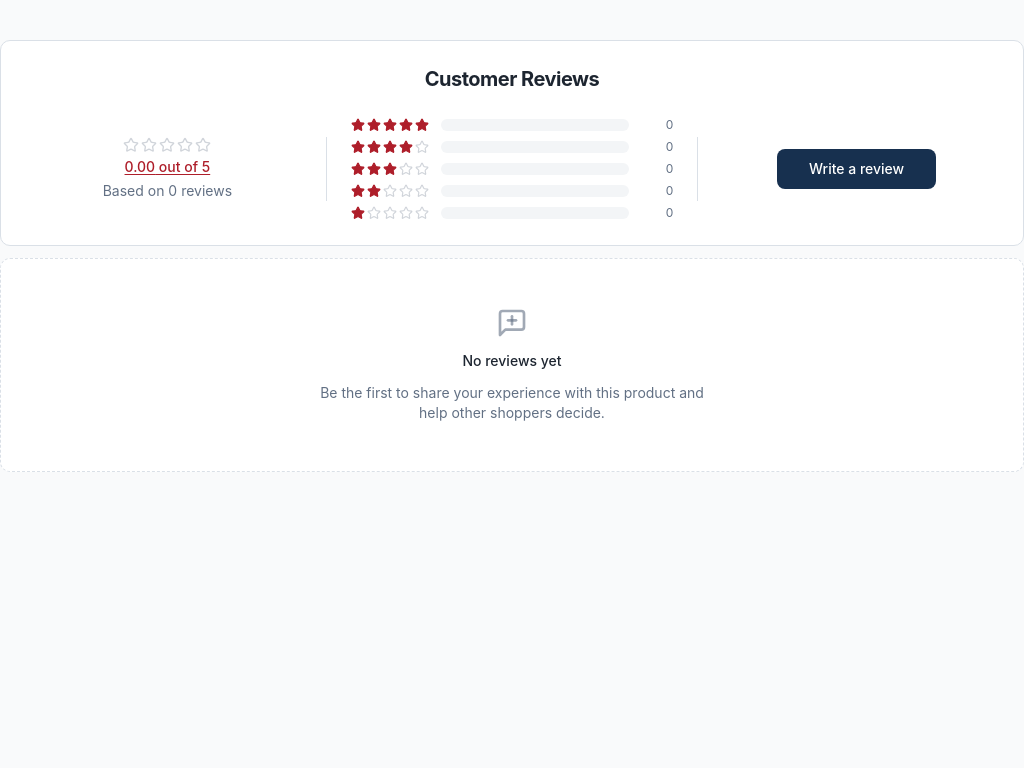
Test: Write a review modal accessibility › closes on Escape
Click the button "Write a review". click: (857, 169)
box: top-left (777, 149), bottom-right (936, 189)
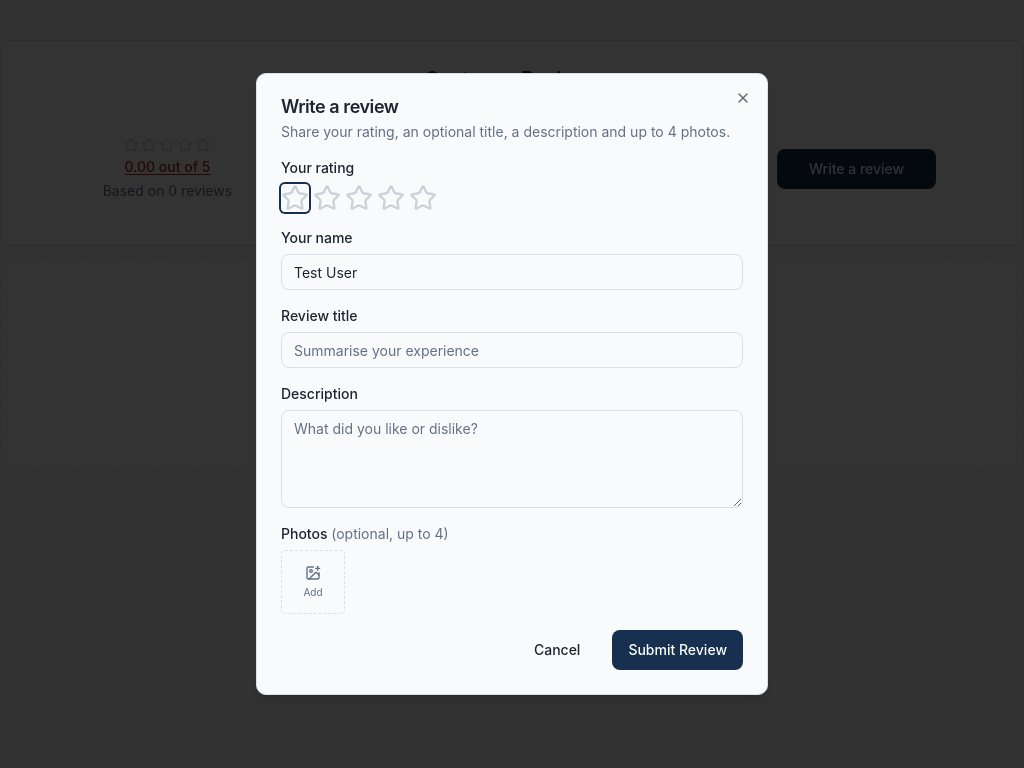
Expected: the dialog is shown, top-left (256, 73), bottom-right (768, 695)
Press Escape
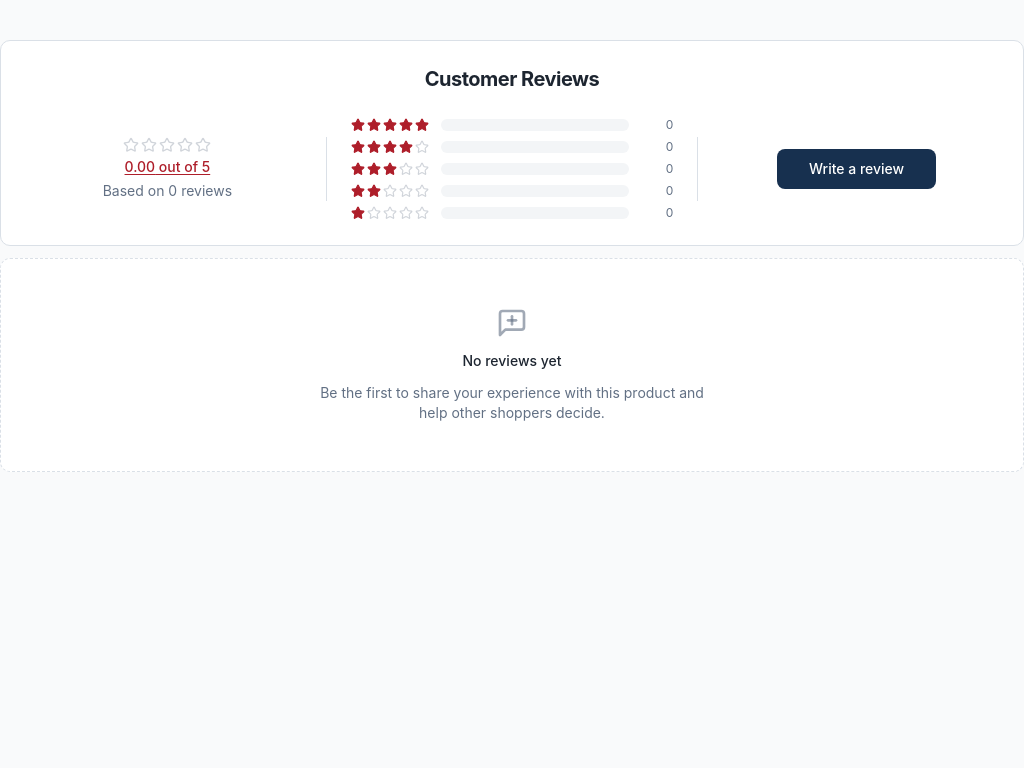
Expected: the dialog is gone
